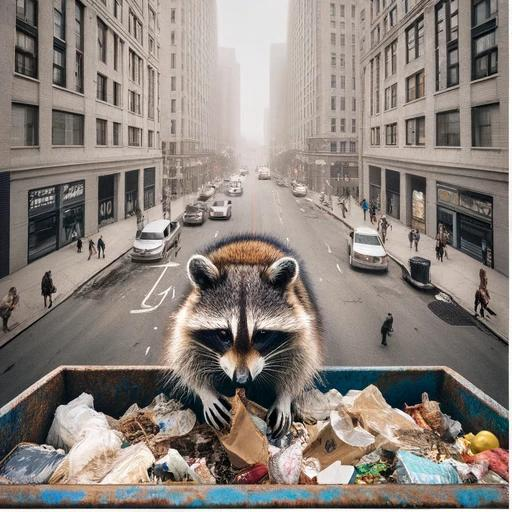raccoon: (158, 226, 332, 441)
